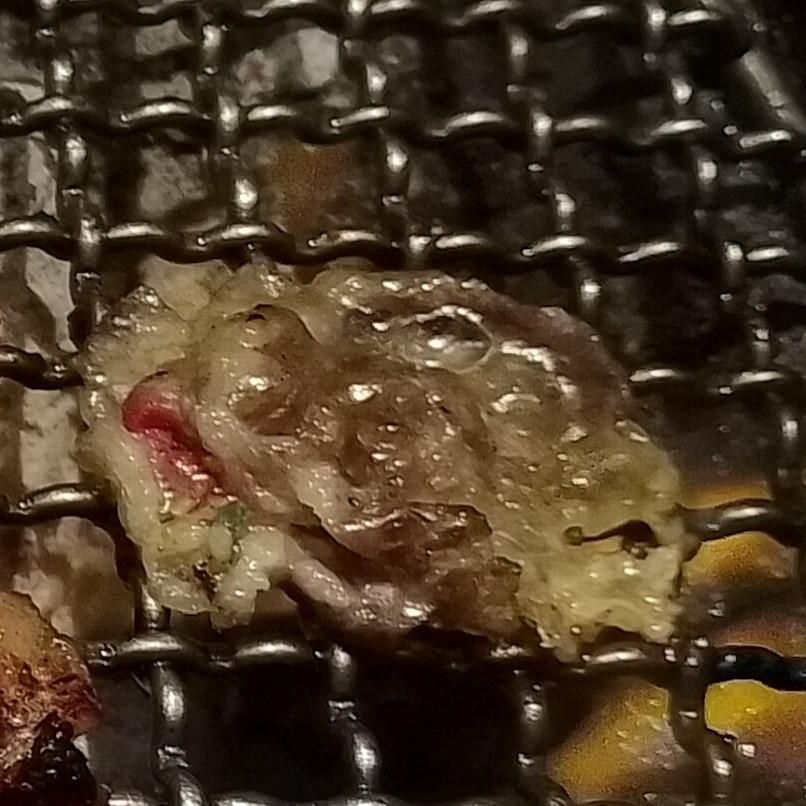Overcooked: (89, 255, 696, 668), (0, 589, 107, 805)
